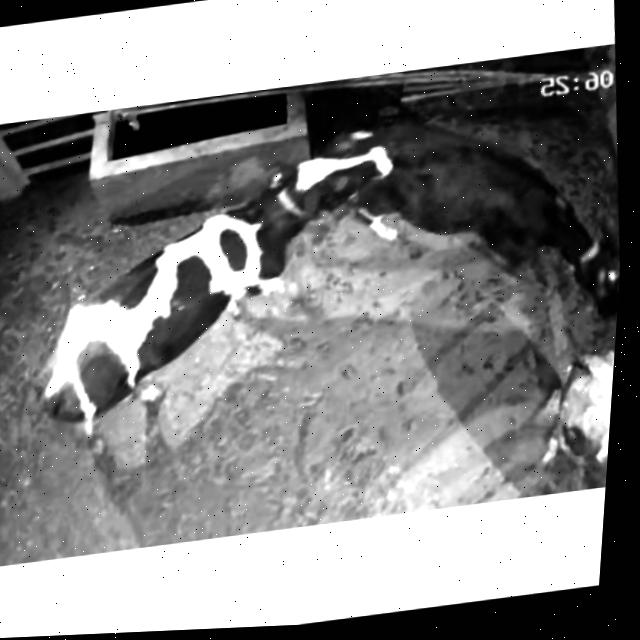propping: (233, 121, 422, 244)
